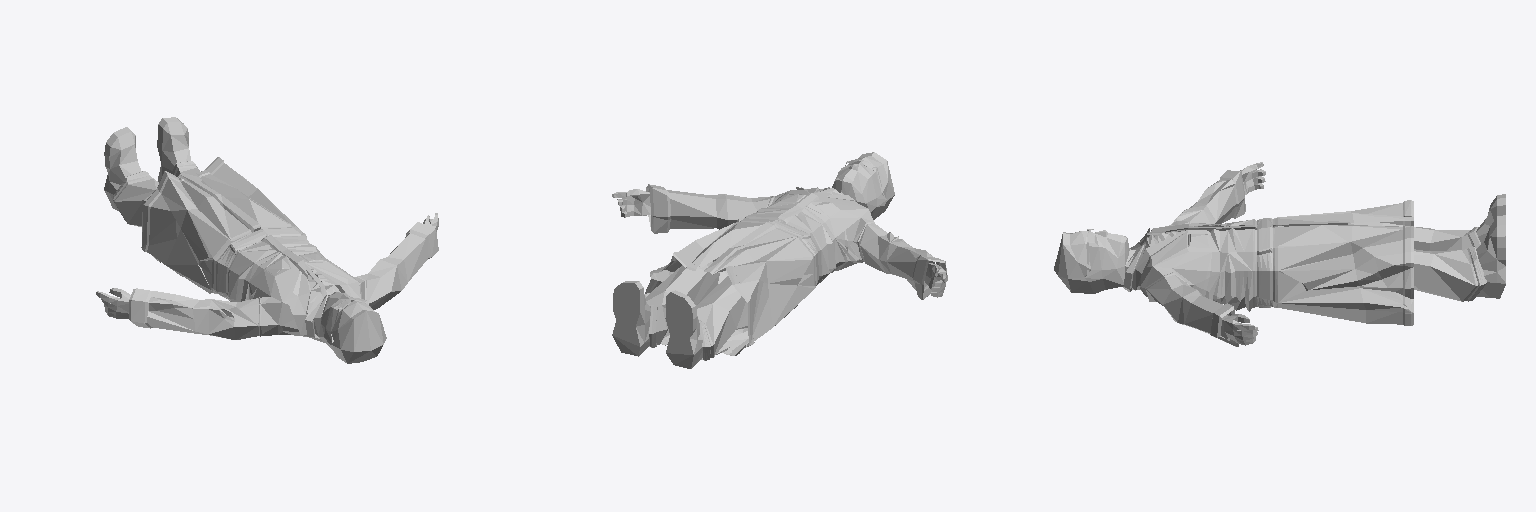
The model's file is scientistHIGH.obj.
3 views of the same model, side by side, from view 1: azimuth 30°, elevation 25°; view 2: azimuth 150°, elevation 25°; view 3: azimuth 270°, elevation 25° (orthographic).
Parts seen in each view (by area): view 1: Plane.6776_Emed.004; view 2: Plane.6776_Emed.004; view 3: Plane.6776_Emed.004.
Boxes of the visible parts, x1,y1,x2,y2 form: Plane.6776_Emed.004: [96, 117, 438, 363]; Plane.6776_Emed.004: [612, 152, 947, 368]; Plane.6776_Emed.004: [1054, 162, 1505, 346].
Bounding box in the file's own units: 1.36 × 0.3883 × 1.57.